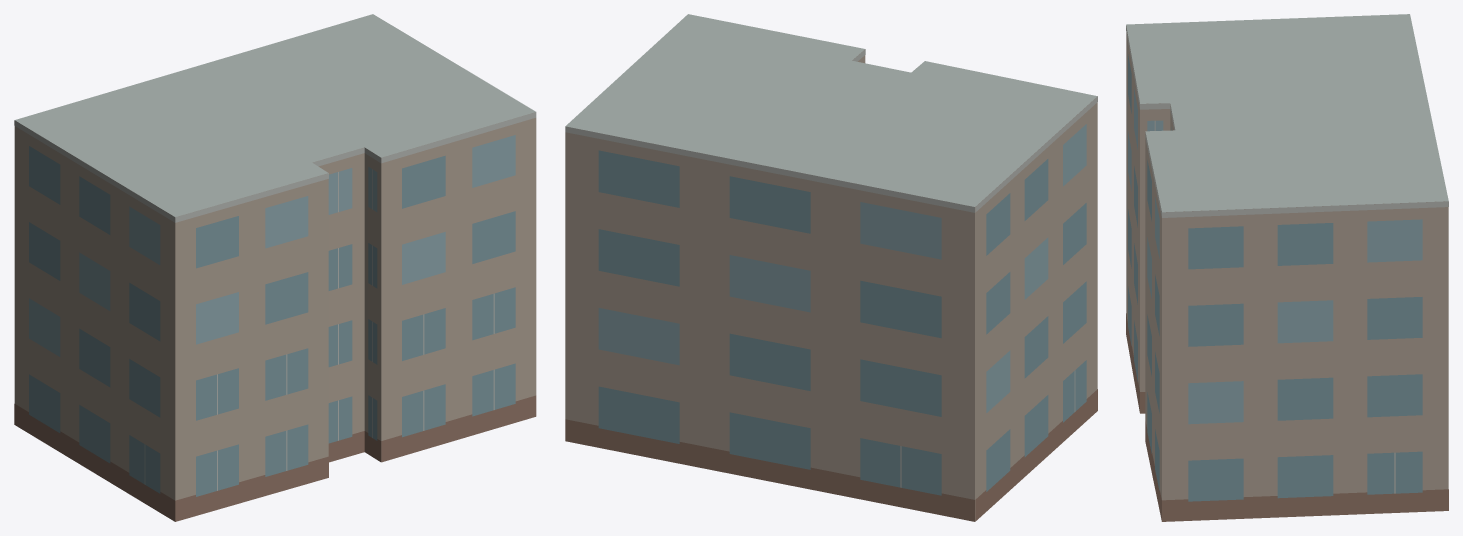
File: survey-upis-32994167.glb
3 renders of one model, left to right at view 1: azimuth 30°, elevation 25°; view 2: azimuth 150°, elevation 25°; view 3: azimuth 270°, elevation 25°, orthographic. The views are drawn at different scales.
Visible parts, largest first — view 1: survey-upis-32994167.tmp; view 2: survey-upis-32994167.tmp; view 3: survey-upis-32994167.tmp.
Part boxes in pixels (left/top/right/bottom): survey-upis-32994167.tmp: left=14, top=14, right=536, bottom=521; survey-upis-32994167.tmp: left=565, top=14, right=1097, bottom=521; survey-upis-32994167.tmp: left=1126, top=14, right=1448, bottom=521.
Size of the model in its own units: 18 by 13.1 by 12.38.
